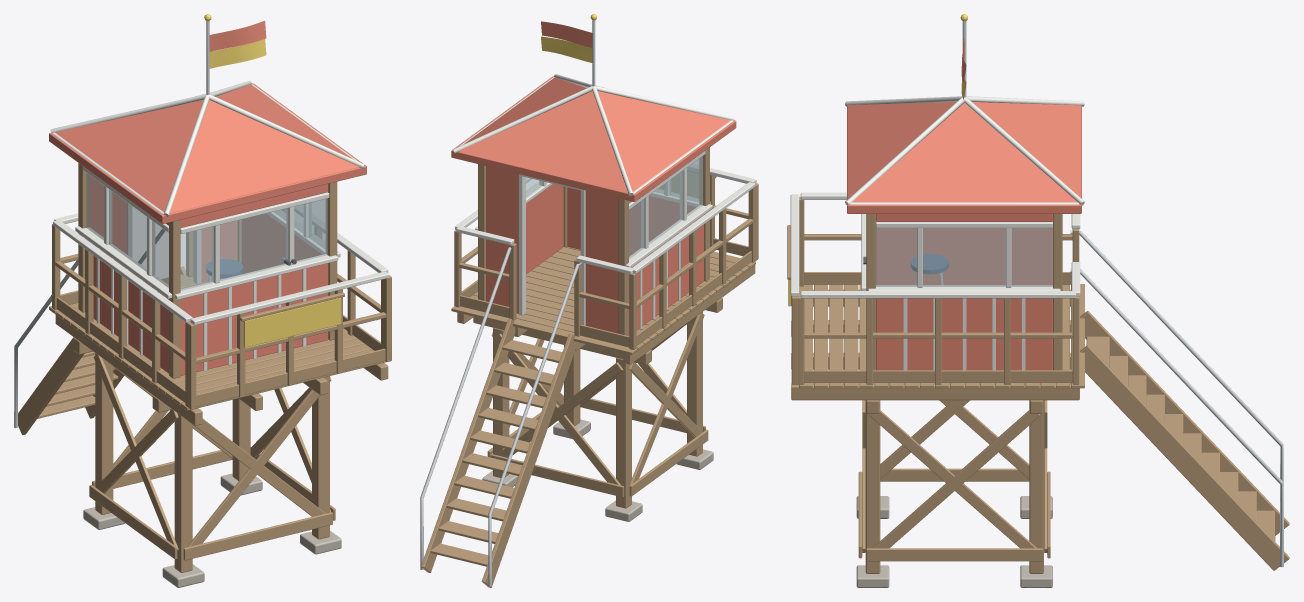
The model's file is beach-surf-and-paddle-kit-lifeguard-tower-c000085e.glb.
3 renders of one model, left to right at view 1: azimuth 30°, elevation 25°; view 2: azimuth 150°, elevation 25°; view 3: azimuth 270°, elevation 25°, orthographic. The views are drawn at different scales.
Visible parts, largest first — view 1: lifeguard-tower-timber, lifeguard-tower-coral, lifeguard-tower-foam, lifeguard-tower-glass, lifeguard-tower-sun, lifeguard-tower-drift, lifeguard-tower-steel; view 2: lifeguard-tower-timber, lifeguard-tower-coral, lifeguard-tower-foam, lifeguard-tower-glass, lifeguard-tower-steel, lifeguard-tower-drift, lifeguard-tower-sun; view 3: lifeguard-tower-timber, lifeguard-tower-coral, lifeguard-tower-foam, lifeguard-tower-glass, lifeguard-tower-steel, lifeguard-tower-drift.
Boxes of the visible parts, x1,y1,x2,y2 form: lifeguard-tower-timber: (18, 163, 391, 572); lifeguard-tower-coral: (49, 20, 366, 375); lifeguard-tower-foam: (50, 80, 389, 371); lifeguard-tower-glass: (86, 173, 327, 290); lifeguard-tower-sun: (204, 14, 341, 347); lifeguard-tower-drift: (83, 473, 341, 587); lifeguard-tower-steel: (14, 21, 221, 428); lifeguard-tower-timber: (421, 147, 758, 587); lifeguard-tower-coral: (451, 21, 736, 335); lifeguard-tower-foam: (453, 74, 756, 328); lifeguard-tower-glass: (526, 156, 702, 259); lifeguard-tower-steel: (420, 20, 595, 586); lifeguard-tower-drift: (482, 419, 713, 521); lifeguard-tower-sun: (541, 14, 698, 197); lifeguard-tower-timber: (787, 197, 1289, 573); lifeguard-tower-coral: (847, 39, 1081, 370); lifeguard-tower-foam: (790, 96, 1084, 370); lifeguard-tower-glass: (876, 228, 1052, 286); lifeguard-tower-steel: (916, 21, 1283, 567); lifeguard-tower-drift: (856, 496, 1052, 587).
Bounding box in the file's own units: 2.54 × 6.18 × 5.22.
